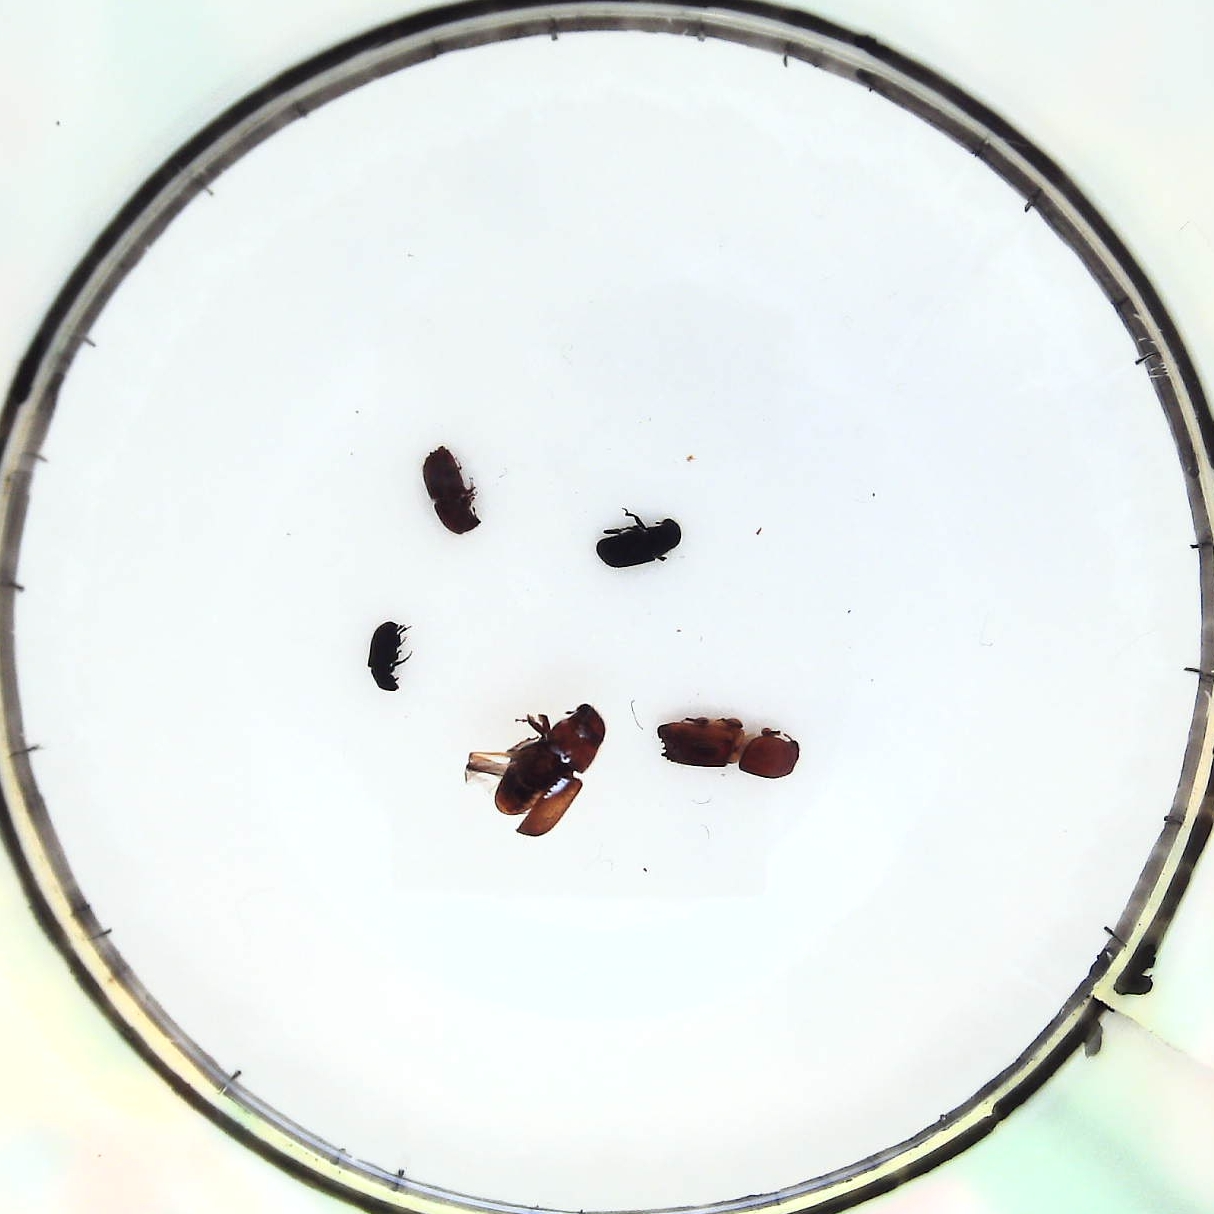Boerner: (656, 712, 800, 785)
Leconte: (461, 707, 607, 834)
Linnaeus: (415, 441, 482, 538)
armandi: (598, 514, 681, 570)
coleoptera: (359, 621, 410, 695)
